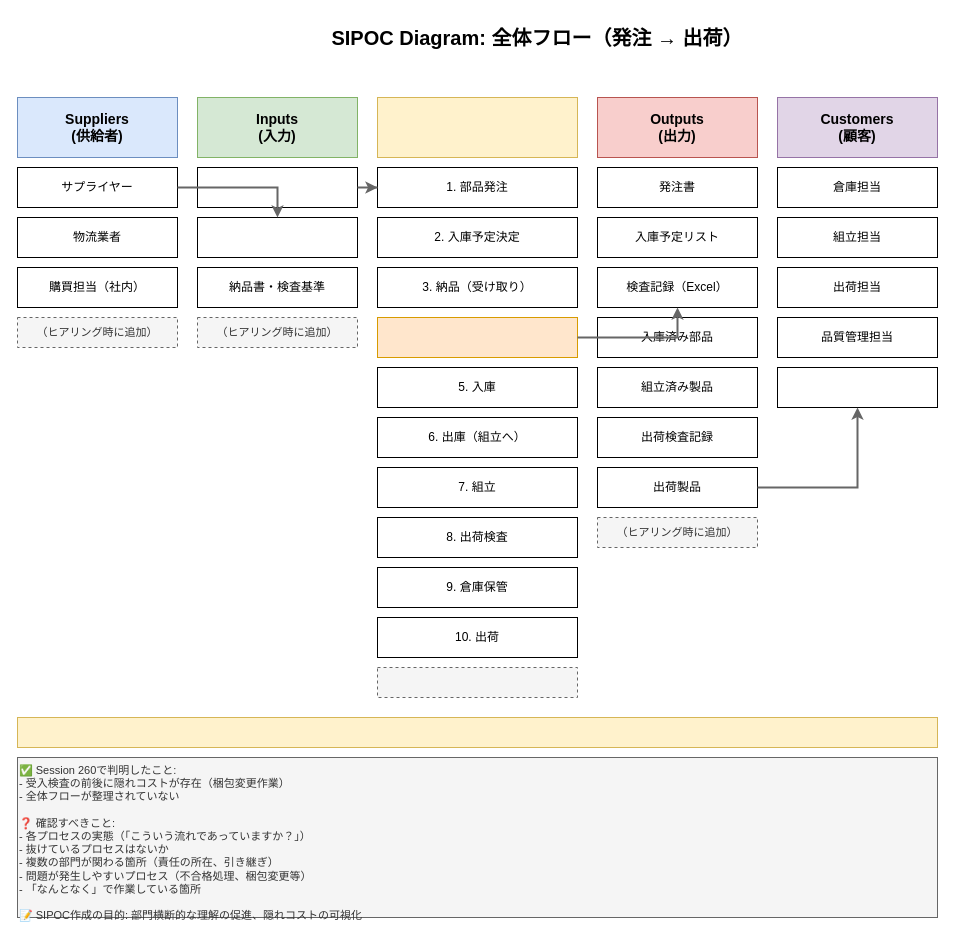
The diagram is 955 pixels wide and 939 high, and some of its shapes have lost their labels. Each missing label, with the centre of its shape:
4. 受入検査: (x=477, y=337)
Process (プロセス): (x=477, y=127)
【ワークショップでの確認ポイント】: (x=477, y=732)
発注情報: (x=277, y=187)
部品・梱包材: (x=277, y=237)
顧客（最終納品先）: (x=857, y=387)
（ヒアリング時に修正・詳細化）: (x=477, y=682)
